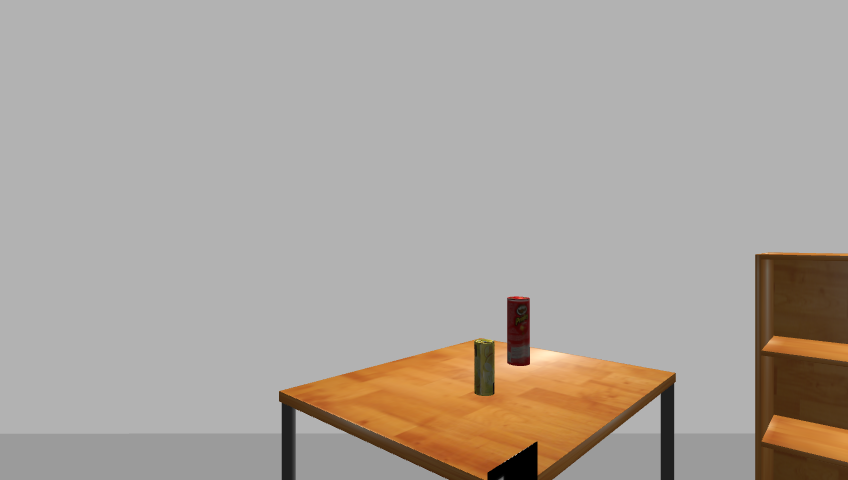aruco marker: (484, 442, 542, 480)
biscuits pack: (473, 338, 496, 397)
bookshelf: (750, 251, 848, 479)
dinner table: (272, 340, 686, 480)
pringles can: (505, 296, 532, 368)
